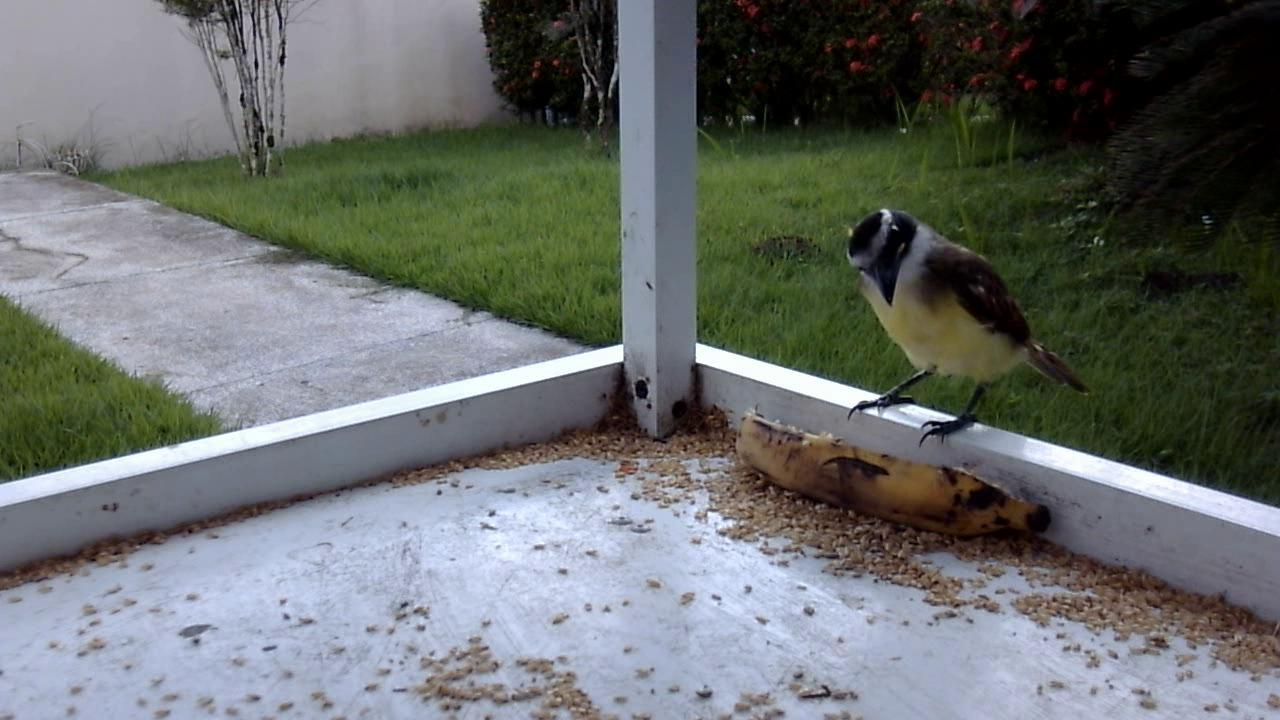bem_te_vi: (838, 197, 1100, 457)
